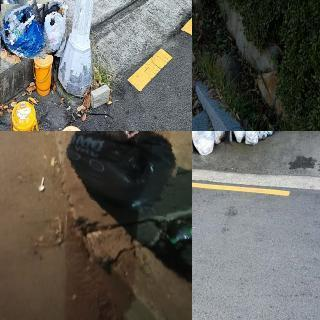Garbage: (58, 131, 180, 212), (0, 1, 48, 61), (38, 0, 73, 56), (192, 131, 216, 154), (230, 131, 248, 143), (246, 131, 259, 143)
